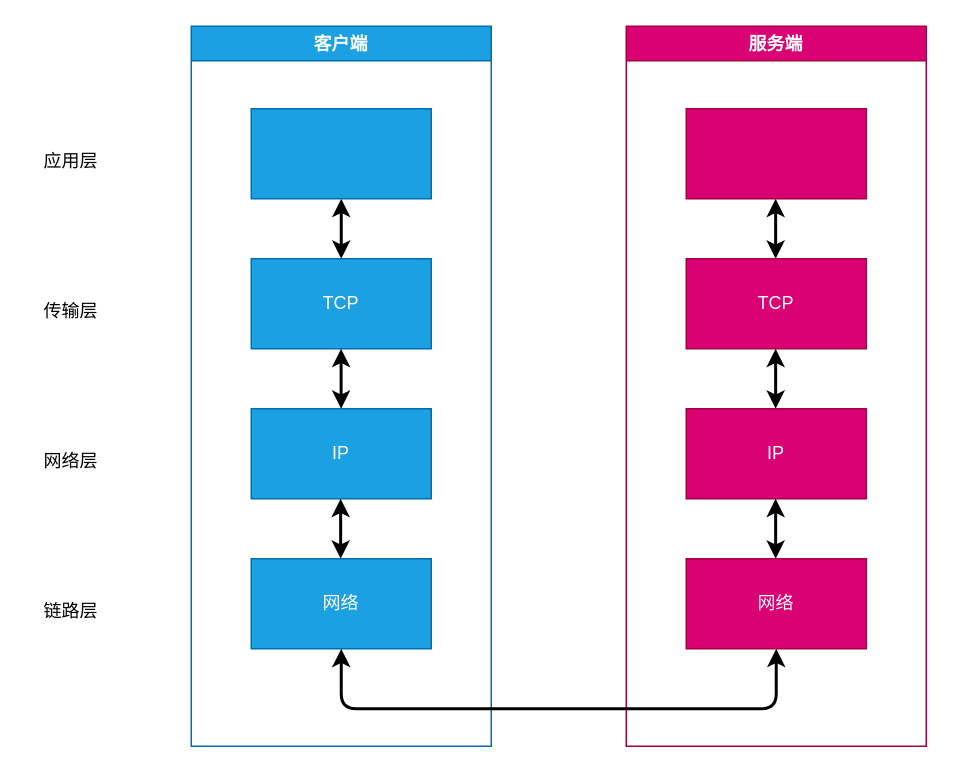
Some shapes in this 953 by 773 pixel diagram are drawn without their labels. Here are the shapes that lost their labels. From the top down, the centre of each, then its label:
At (340,153): "HTTP 客户端".
At (775,153): "HTTP 服务端".
